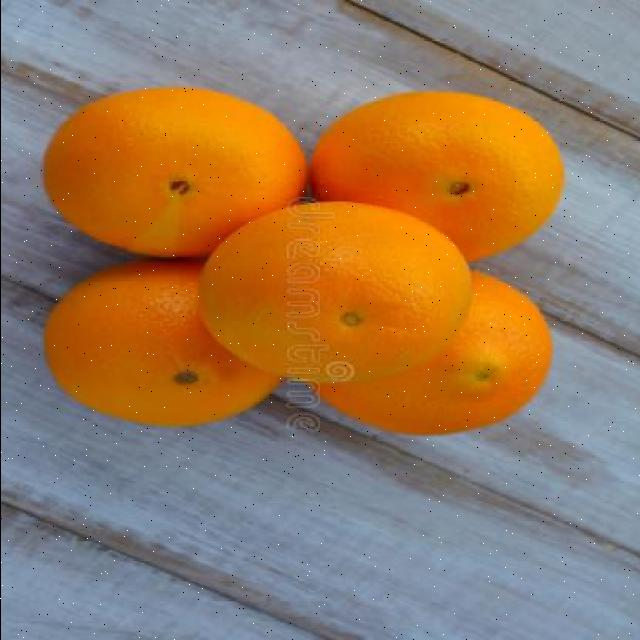Orange: (198, 198, 474, 384), (42, 85, 310, 257), (309, 90, 566, 262), (43, 258, 285, 428), (311, 270, 555, 436)
